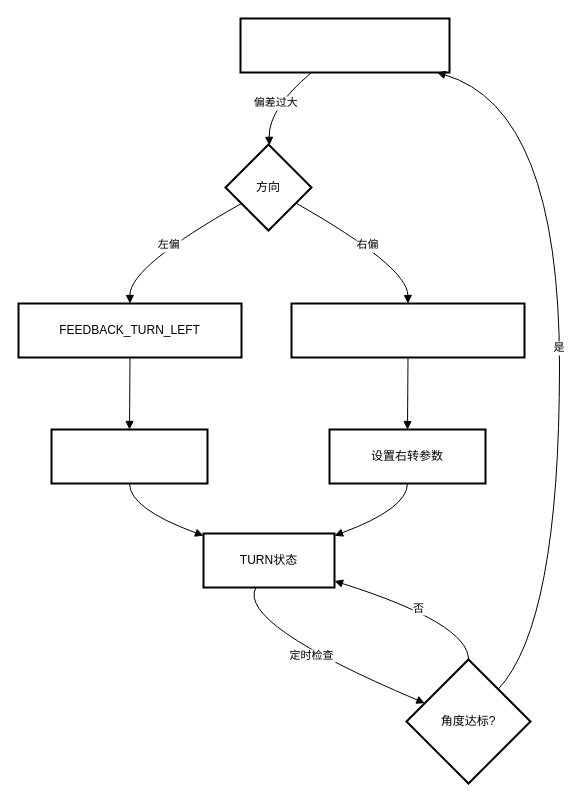
Some shapes in this 582 by 801 pixel diagram are drawn without their labels. Each missing label, with the box of its shape:
FEEDBACK_FORWARD: (239, 17, 450, 73)
FEEDBACK_TURN_RIGHT: (290, 302, 525, 358)
设置左转参数: (50, 428, 208, 484)
